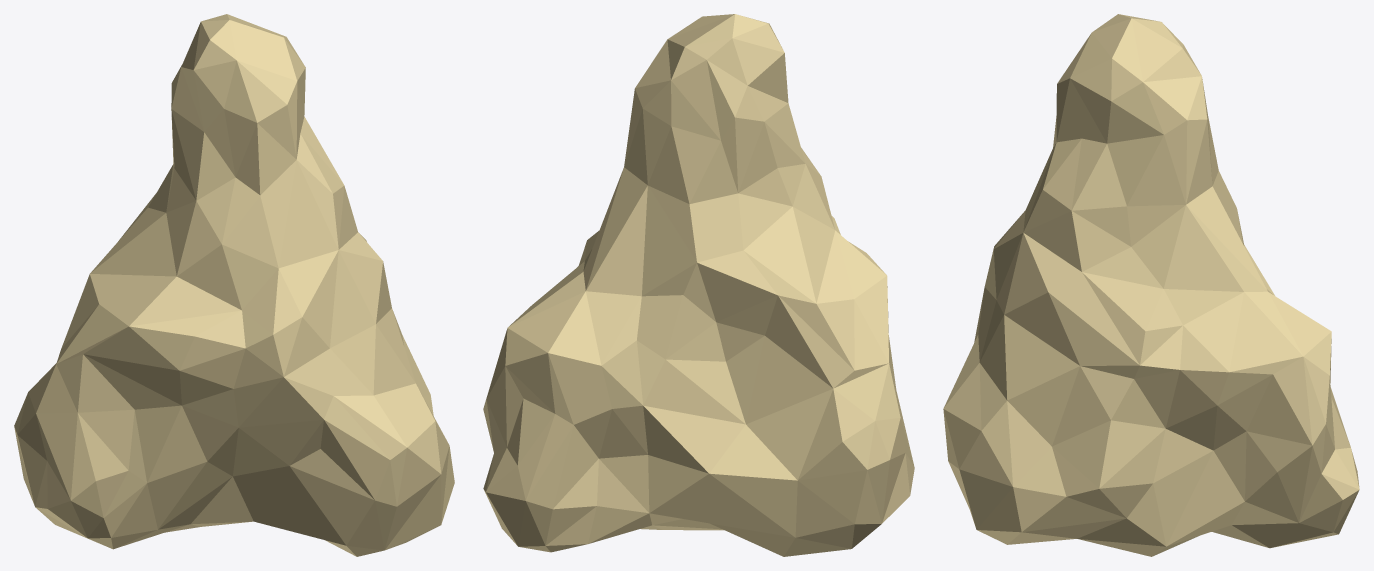
Rendered from Asteroid (60).fbx.
3 renders of one model, left to right at view 1: azimuth 30°, elevation 25°; view 2: azimuth 150°, elevation 25°; view 3: azimuth 270°, elevation 25°, orthographic. The views are drawn at different scales.
Parts seen in each view (by area): view 1: Asteroid116; view 2: Asteroid116; view 3: Asteroid116.
Boxes of the visible parts, x1,y1,x2,y2 form: Asteroid116: [14, 14, 454, 556]; Asteroid116: [483, 14, 914, 556]; Asteroid116: [943, 14, 1359, 556].
Size of the model in its own units: 122 by 161 by 126.
